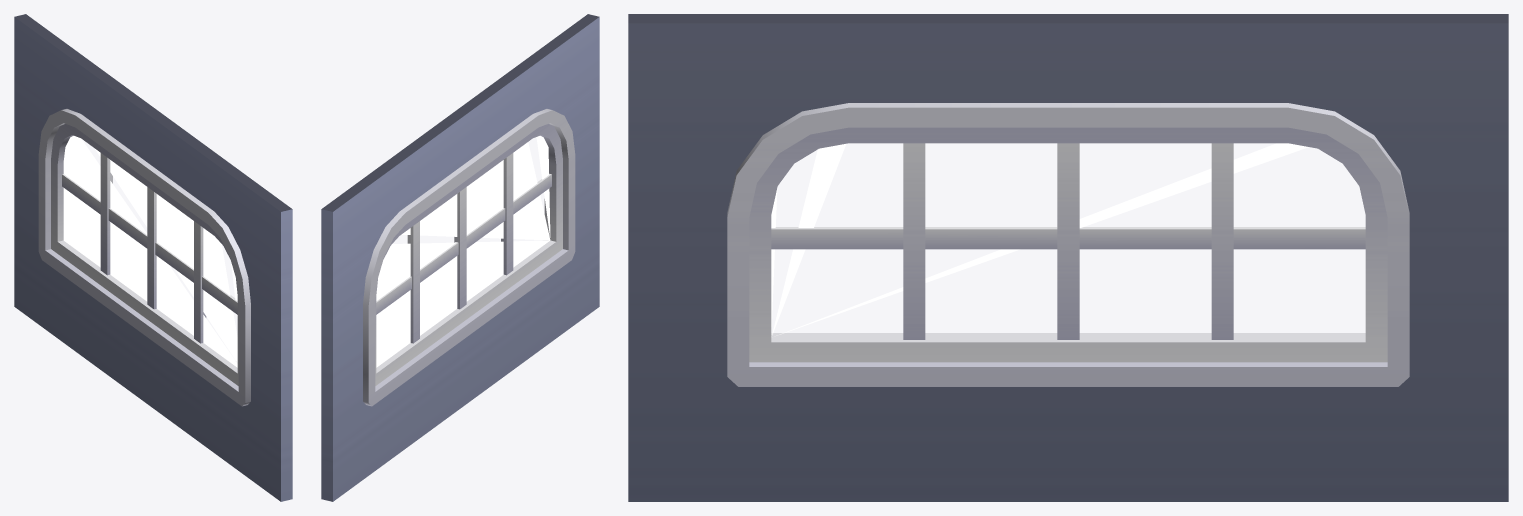
The model's file is Wall Window Wide-VXybmU43Jk.glb.
3 views of the same model, side by side, from view 1: azimuth 30°, elevation 25°; view 2: azimuth 150°, elevation 25°; view 3: azimuth 270°, elevation 25° (orthographic). The views are drawn at different scales.
Visible parts, largest first — view 1: wall-window-wide-round-detailed, (%ignore); view 2: wall-window-wide-round-detailed, (%ignore); view 3: wall-window-wide-round-detailed, (%ignore).
Boxes of the visible parts, bbox=[...] form: wall-window-wide-round-detailed: bbox=[14, 14, 292, 501]; (%ignore): bbox=[63, 135, 237, 367]; wall-window-wide-round-detailed: bbox=[321, 14, 599, 501]; (%ignore): bbox=[376, 135, 550, 367]; wall-window-wide-round-detailed: bbox=[628, 14, 1508, 501]; (%ignore): bbox=[771, 143, 1308, 336].
Size of the model in its own units: 0.2 by 2.4 by 4.
2 materials, 1 textured.
